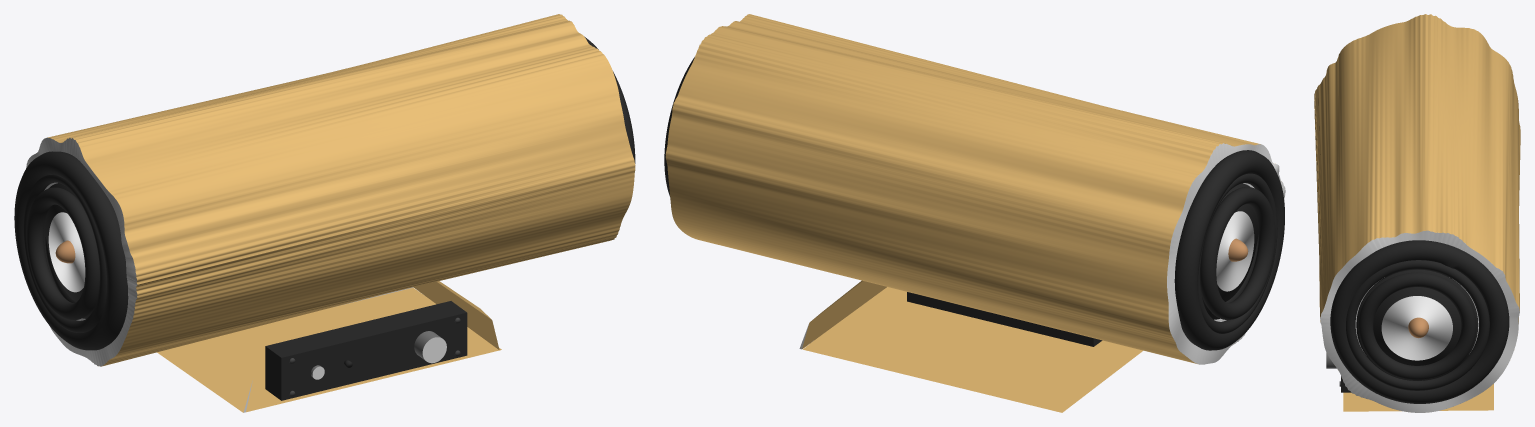
The model's file is nenrin-speaker-new.glb.
The picture shows the model from 3 angles, left to right: view 1: azimuth 30°, elevation 25°; view 2: azimuth 150°, elevation 25°; view 3: azimuth 270°, elevation 25°; orthographic projection. The views are drawn at different scales.
Visible parts, largest first — view 1: cedar_bright, matte_black, matte_black.008, rubber_surround.003, endgrain_wood, matte_black.005, wood_cone.004, matte_black.009; view 2: cedar_bright, matte_black.008, rubber_surround.003, endgrain_wood, wood_cone.004, matte_black, matte_black.005, matte_black.009; view 3: cedar_bright, matte_black.001, endgrain_wood, rubber_surround.002, matte_black.003, wood_cone.003, matte_black, copper_cap.
Part boxes in pixels (bbox=[...]): cedar_bright: bbox=[48, 14, 635, 412]; matte_black: bbox=[265, 301, 467, 400]; matte_black.008: bbox=[14, 151, 128, 350]; rubber_surround.003: bbox=[26, 187, 99, 319]; endgrain_wood: bbox=[26, 137, 137, 366]; matte_black.005: bbox=[23, 175, 106, 332]; wood_cone.004: bbox=[48, 212, 85, 292]; matte_black.009: bbox=[43, 183, 89, 318]; cedar_bright: bbox=[665, 14, 1275, 412]; matte_black.008: bbox=[1174, 150, 1284, 350]; rubber_surround.003: bbox=[1200, 187, 1275, 319]; endgrain_wood: bbox=[1167, 143, 1285, 364]; wood_cone.004: bbox=[1216, 211, 1254, 291]; matte_black: bbox=[907, 292, 1102, 346]; matte_black.005: bbox=[1198, 173, 1277, 333]; matte_black.009: bbox=[1202, 183, 1258, 319]; cedar_bright: bbox=[1314, 14, 1520, 411]; matte_black.001: bbox=[1330, 240, 1509, 403]; endgrain_wood: bbox=[1320, 230, 1519, 412]; rubber_surround.002: bbox=[1358, 272, 1476, 380]; matte_black.003: bbox=[1346, 260, 1489, 390]; wood_cone.003: bbox=[1381, 296, 1452, 360]; matte_black: bbox=[1341, 269, 1478, 392]; copper_cap: bbox=[1408, 317, 1428, 338].
Bounding box in the file's own units: 0.3203 × 0.1486 × 0.1183.
